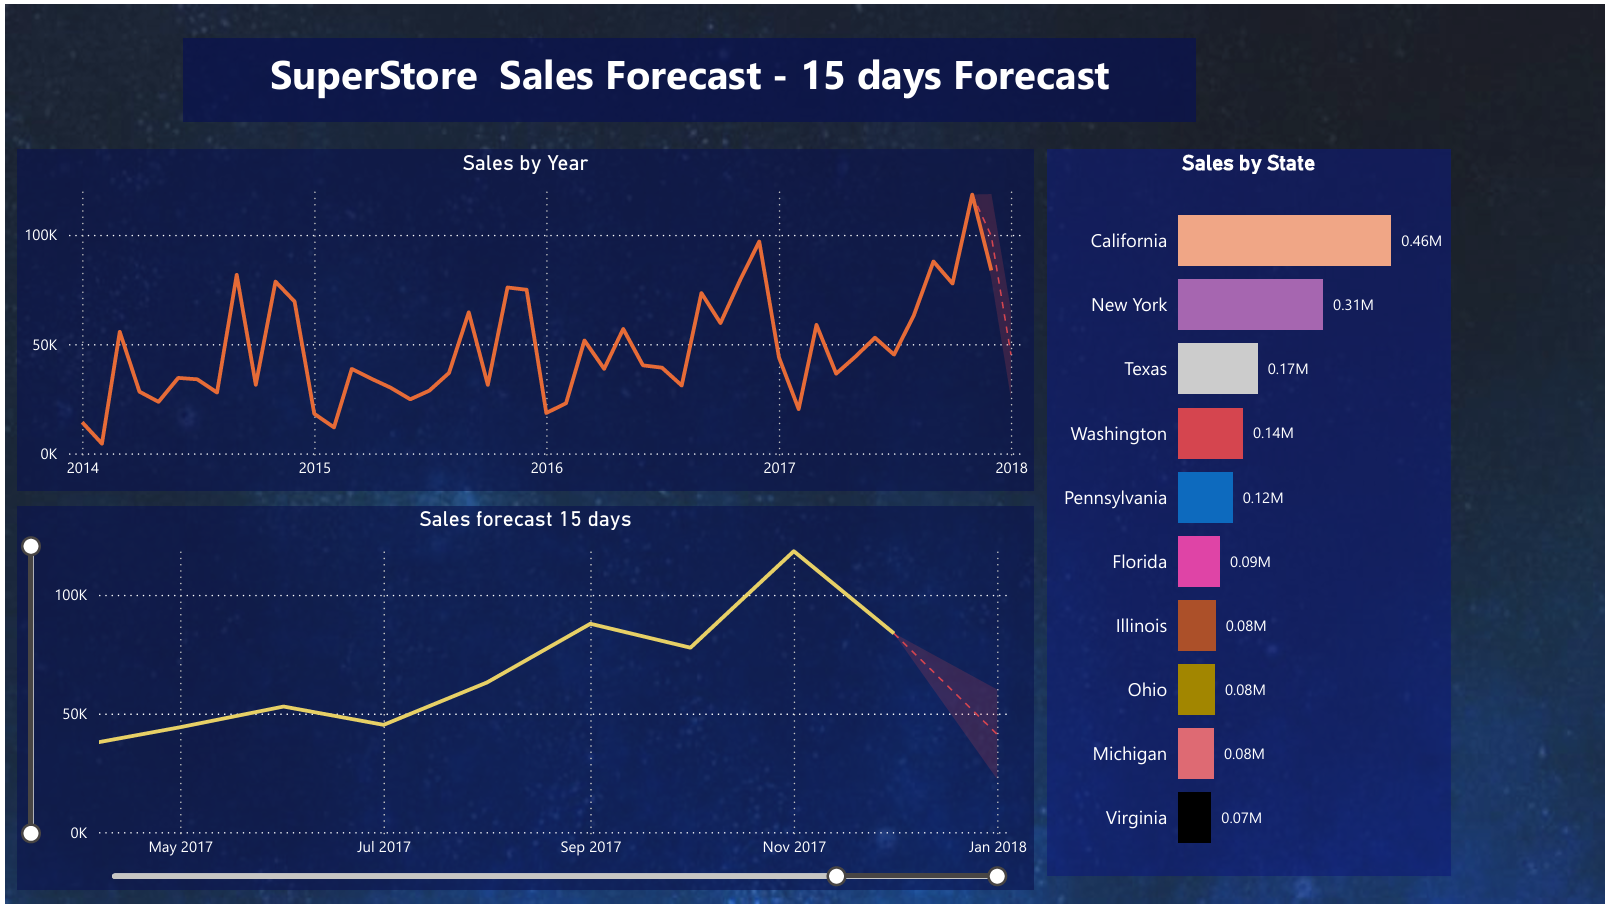

The dashboard page shown, as its layout file describes it:
{"tool":"powerbi","page":{"name":"Forecast","canvas":[1280,720],"ordinal":1},"visuals":[{"type":"lineChart","title":"Sales by Year","fields":{"Y":["Sum(Orders.Sales)"],"Category":["Orders.Order Date.Variation.Date Hierarchy.Year","Orders.Order Date.Variation.Date Hierarchy.Quarter","Orders.Order Date.Variation.Date Hierarchy.Month"]},"box":[8.9,115.6,813.3,273.3],"z":0},{"type":"lineChart","title":"Sales forecast 15 days","fields":{"Y":["Sum(Orders.Sales)"],"Category":["Orders.Order Date.Variation.Date Hierarchy.Year","Orders.Order Date.Variation.Date Hierarchy.Quarter","Orders.Order Date.Variation.Date Hierarchy.Month","Orders.Order Date.Variation.Date Hierarchy.Day"]},"box":[8.9,401.1,813.3,306.7],"z":1000},{"type":"clusteredBarChart","title":" Sales by State","fields":{"Category":["Orders.State"],"Y":["Sum(Orders.Sales)"]},"box":[833.3,115.6,322.2,581.1],"z":2000},{"type":"textbox","box":[142.2,26.7,810,67.8],"z":3000}]}

Visuals, with their boxes in screenshot pixels (x1, y1, x2, y2), scaled from the page's 1280x720 canvas onto the 1610x912 screenshot:
"Sales by Year" lineChart: locate(11, 146, 1034, 493)
"Sales forecast 15 days" lineChart: locate(11, 508, 1034, 897)
" Sales by State" clusteredBarChart: locate(1048, 146, 1453, 882)
textbox: locate(179, 34, 1198, 120)
